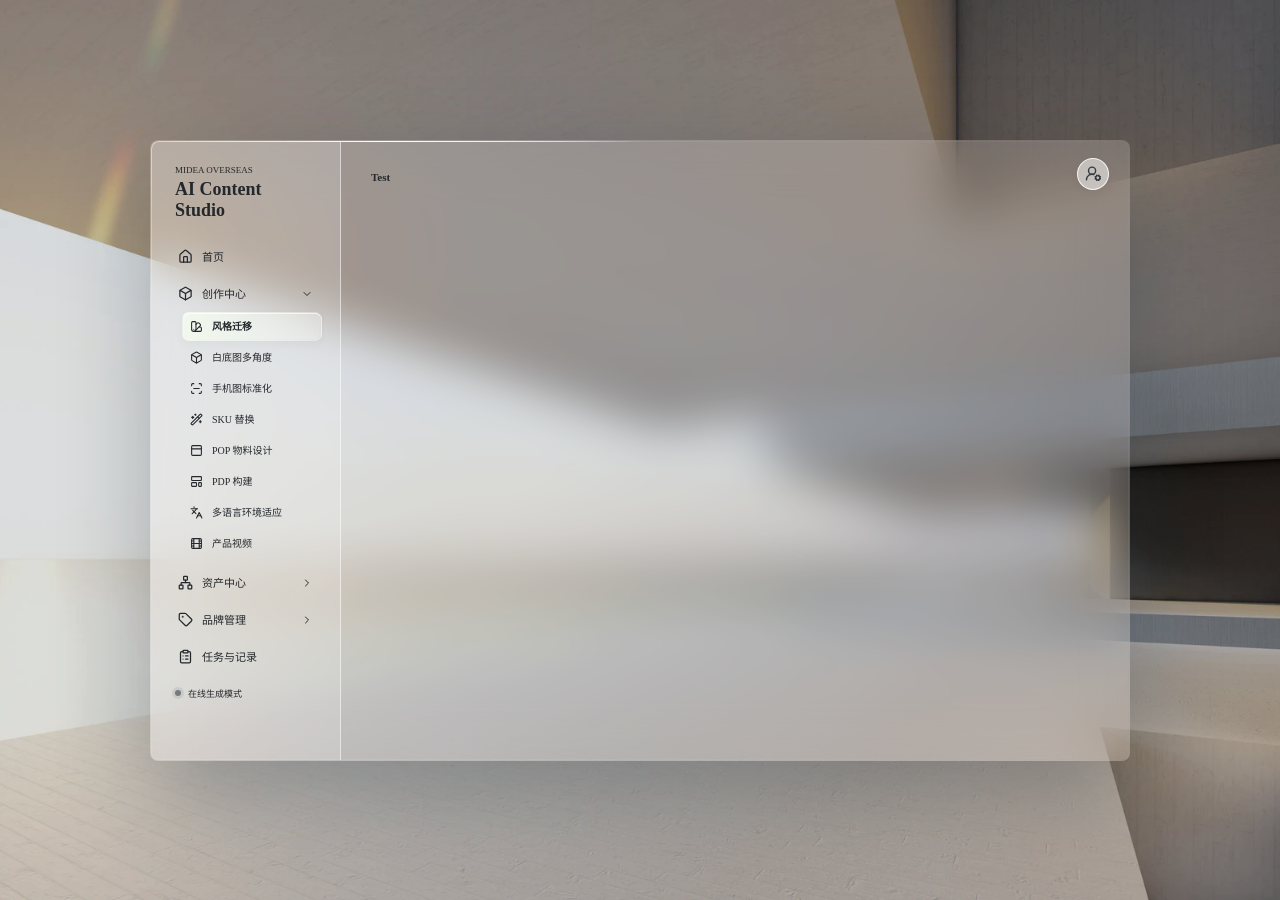
shared user settings › keeps market-load retry available after changing appearance
What coordinates should you click on to do the following:
click the button named "用户设置"
I would click on:
 (1093, 174)
Its box is [1077, 158, 1109, 190].
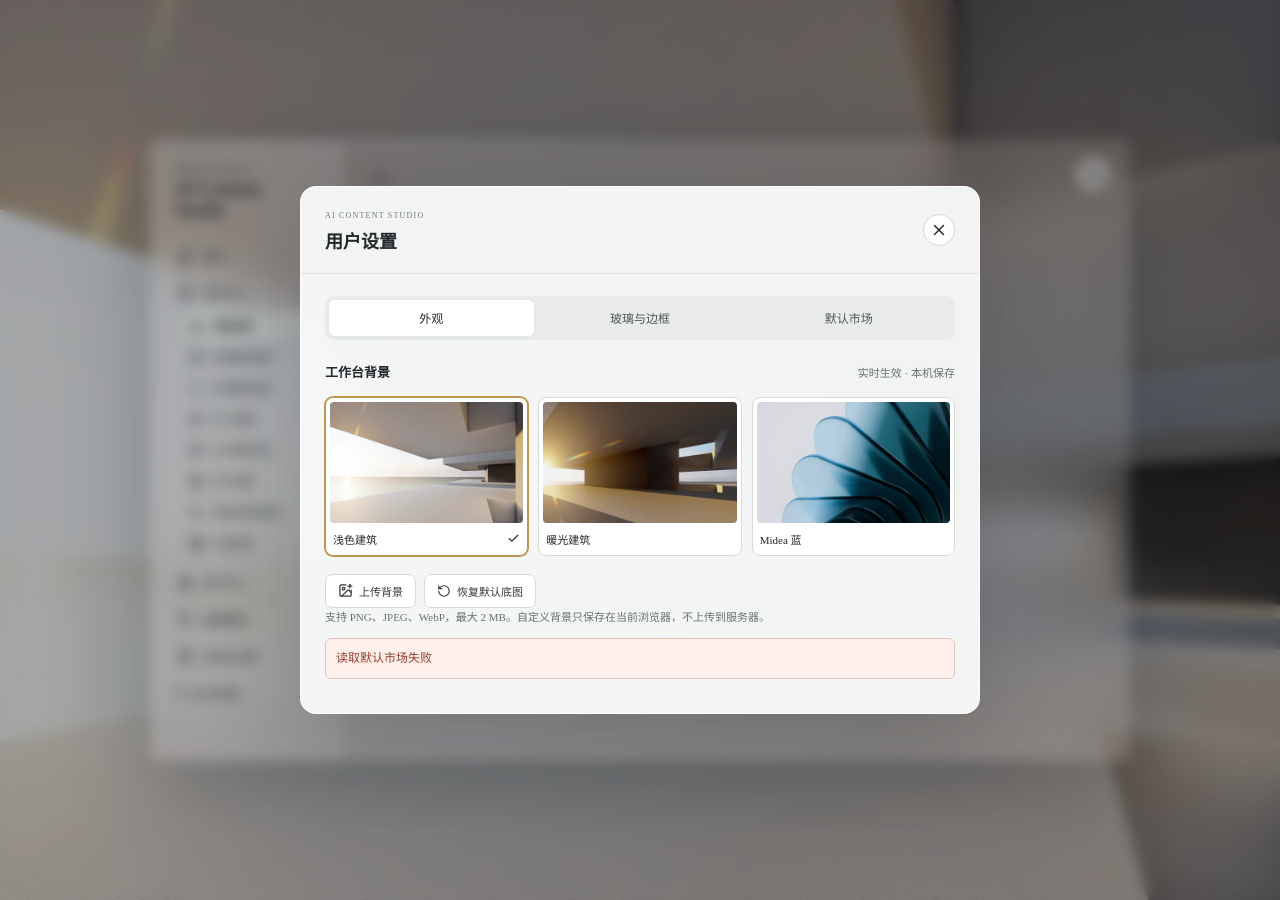
Result: the text "读取默认市场失败" is shown at [325, 638, 955, 679]
What coordinates should you click on to do the following:
click the button with aria-label "使用Midea 蓝底图"
I would click on:
 (853, 476)
Its box is [752, 397, 955, 556].
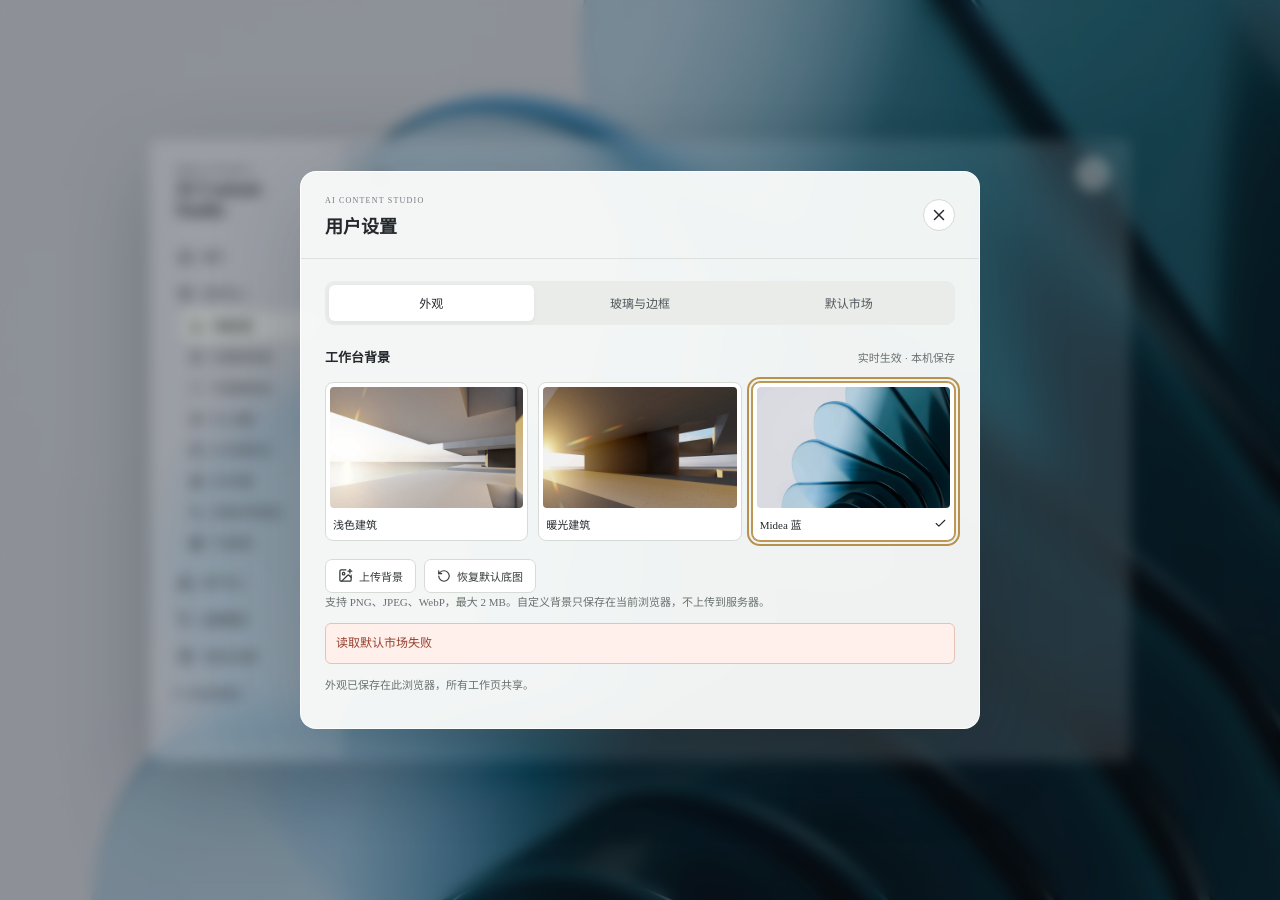
What coordinates should you click on to do the following:
click the tab "默认市场"
I would click on:
 (849, 304)
Its box is [746, 286, 951, 322].
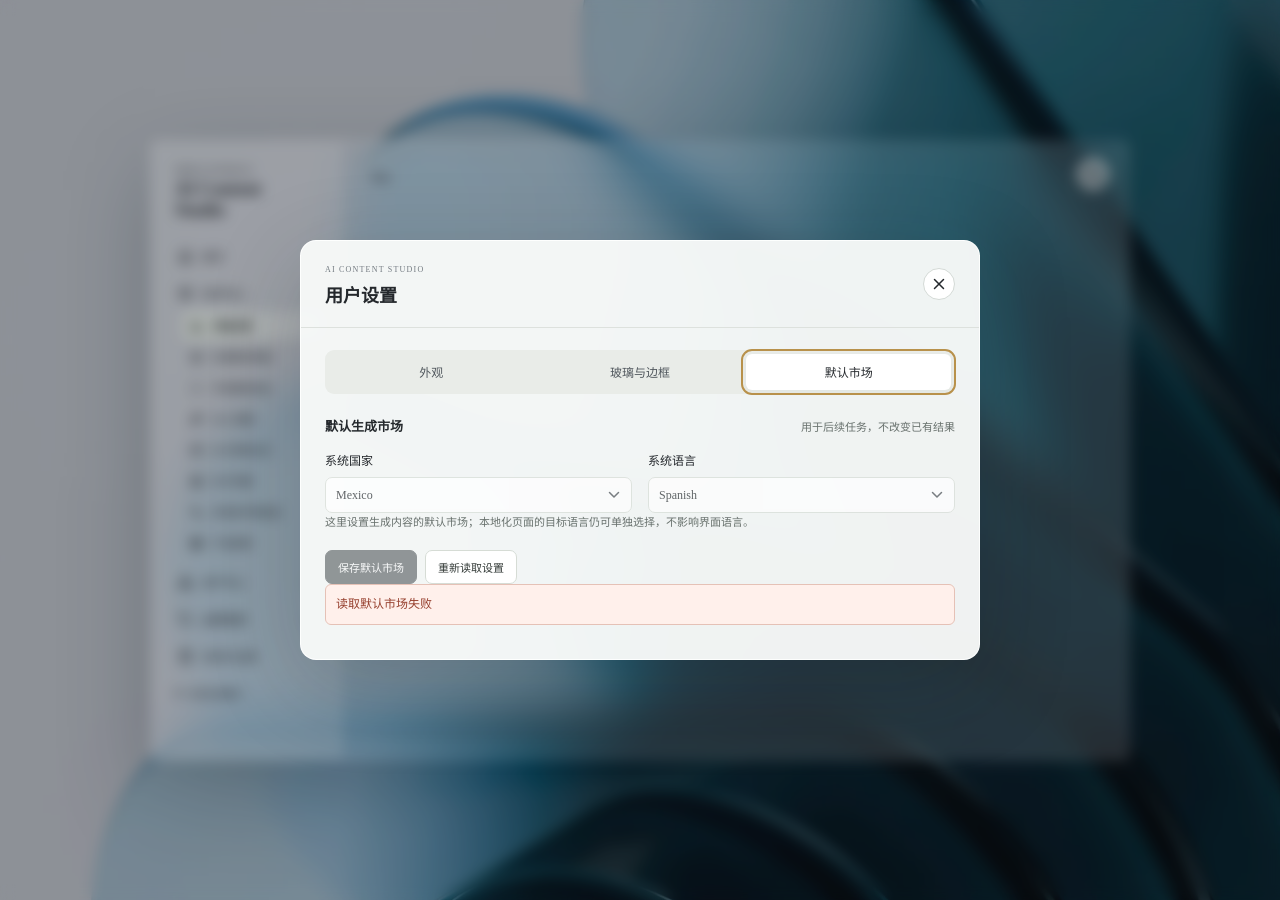
What coordinates should you click on to do the following:
click the button "重新读取设置"
I would click on:
 (471, 567)
Its box is [425, 550, 517, 584].
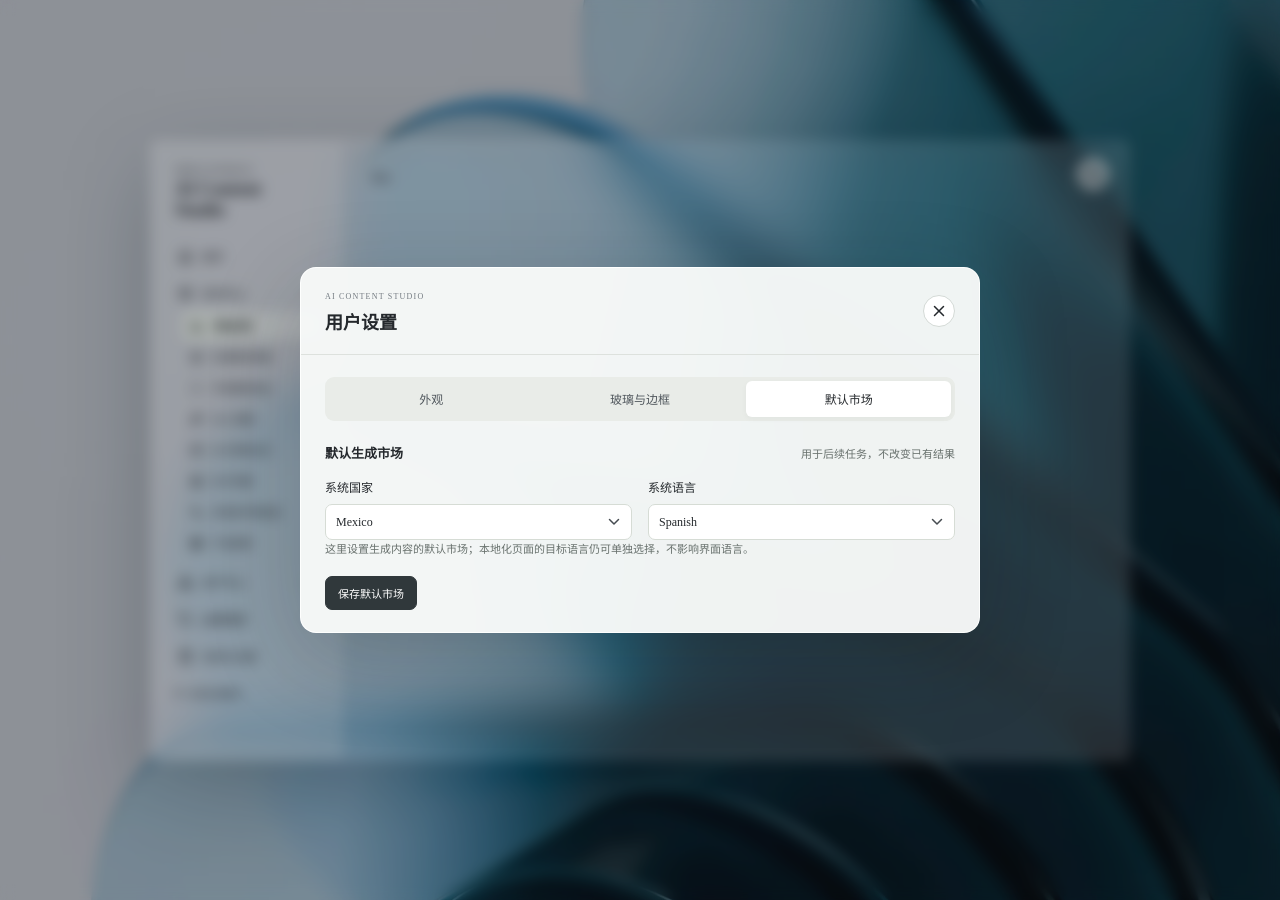
Result: the dropdown labelled "系统国家" is enabled at [325, 504, 632, 540]
